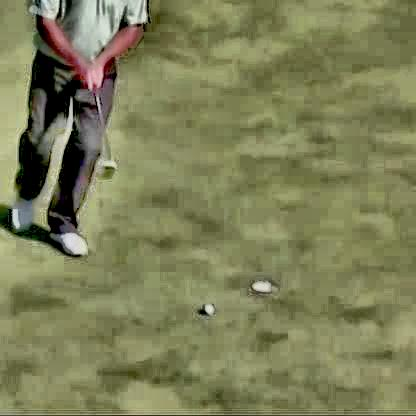golfball: (200, 301, 213, 312)
